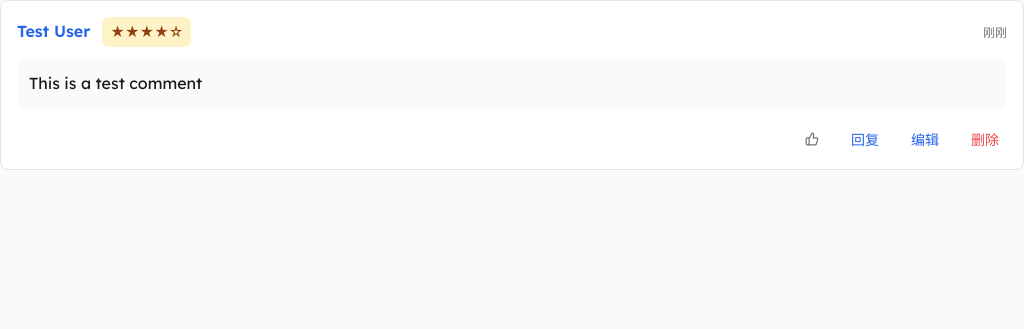
Test: CommentItem › cancels edit and restores original content
Click the button "编辑" at (925, 139), box [903, 125, 947, 153]
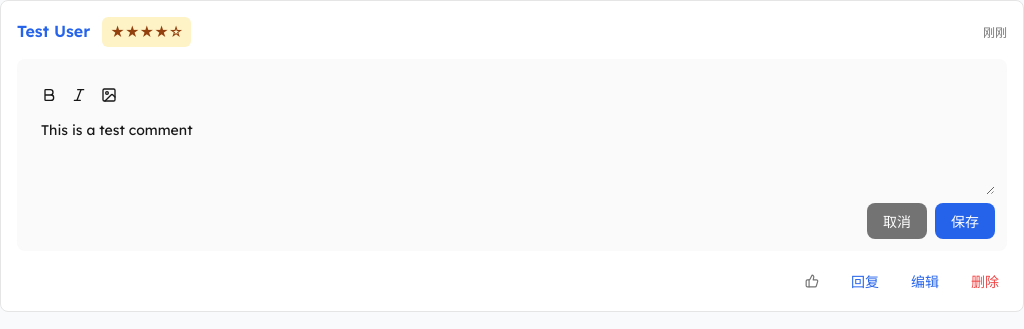
Note: Change the content
Replace the text in the text box showing "This is a test comment" with "Changed content" at (512, 153), box [29, 111, 995, 195]
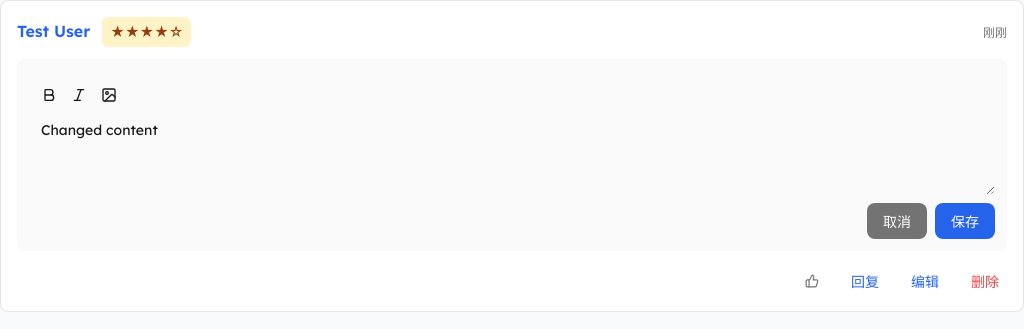
Click the button "取消" at (897, 221), box [867, 203, 927, 239]
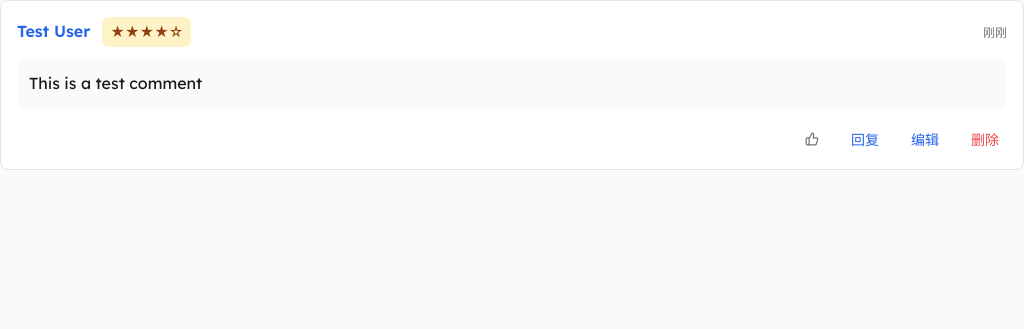
Check: the text "This is a test comment" is shown, box [29, 73, 202, 93]
Check: the button "保存" is gone
